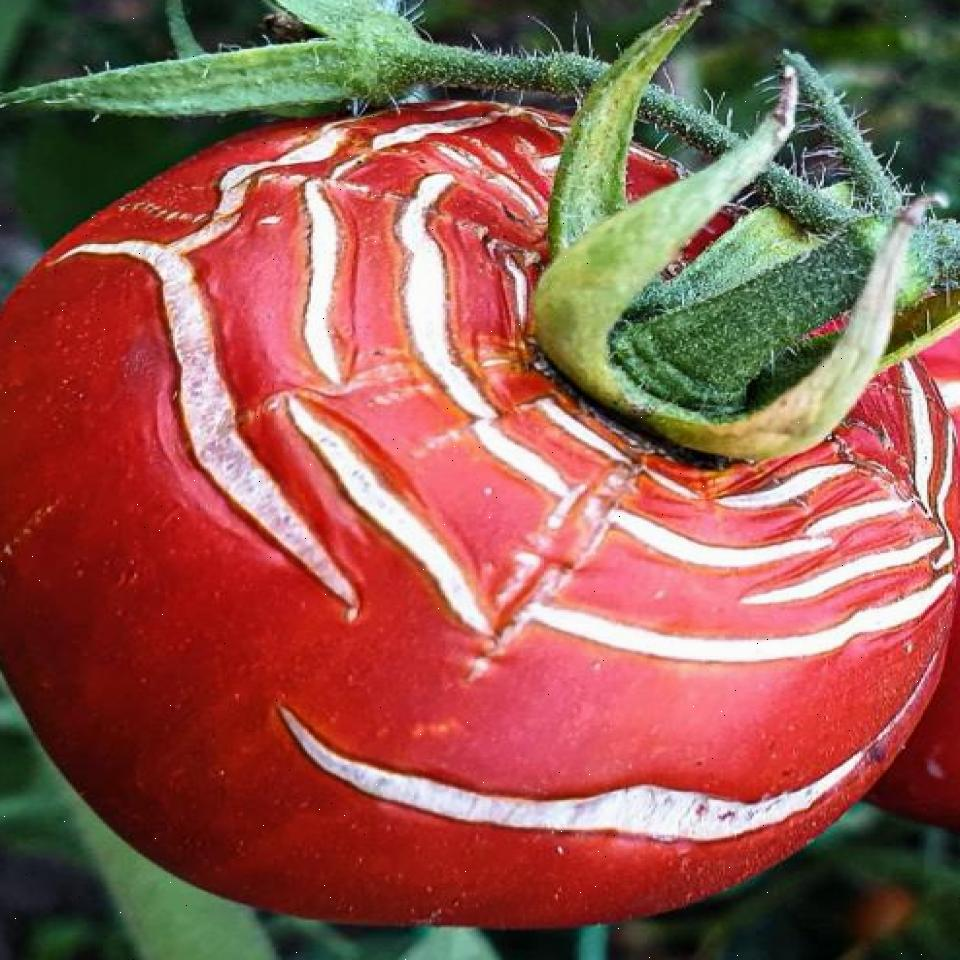Cracking: (309, 146, 949, 668), (43, 106, 433, 662), (190, 650, 928, 852)
